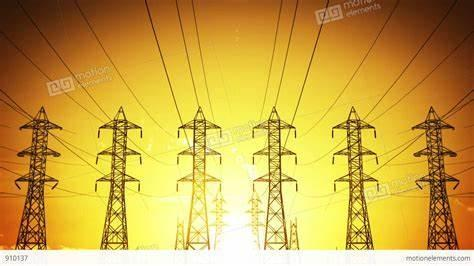power_tower: (7, 104, 67, 251), (326, 105, 386, 251), (246, 106, 300, 250), (411, 106, 464, 250), (171, 104, 222, 252), (93, 106, 144, 250)
